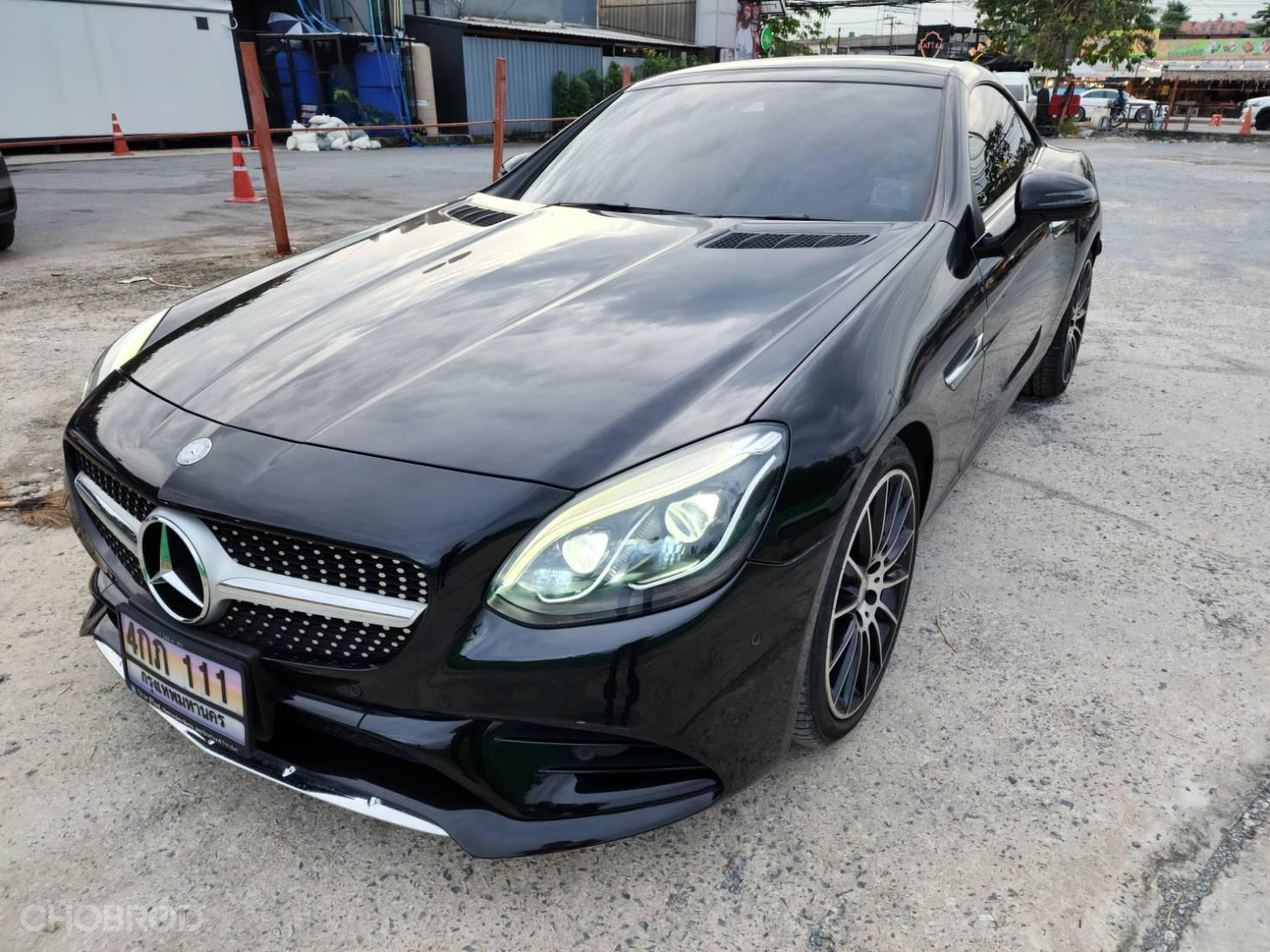license-plate: (98, 603, 267, 780)
